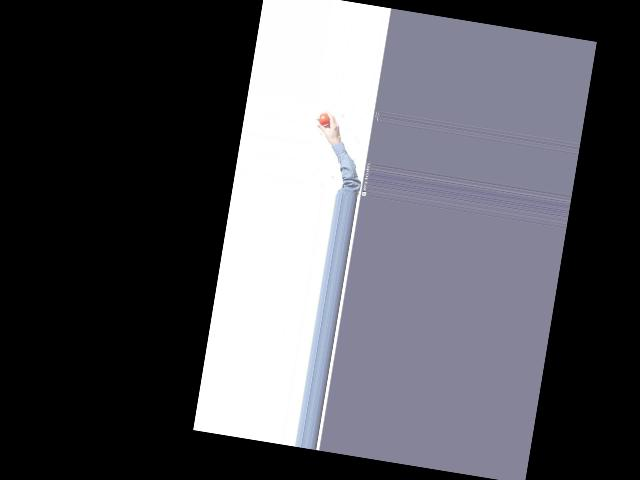tomato: (318, 112, 330, 125)
